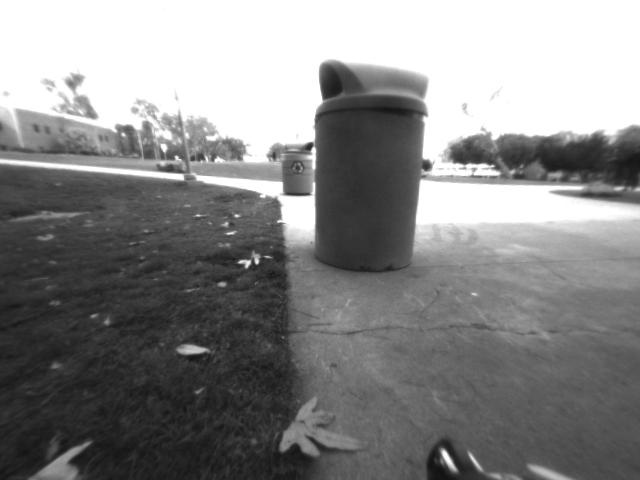trashcan: (307, 49, 443, 282)
